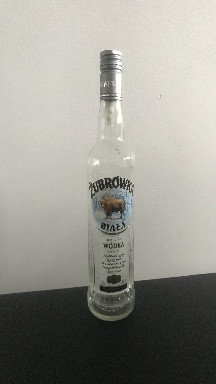butelka: (85, 47, 136, 324)
